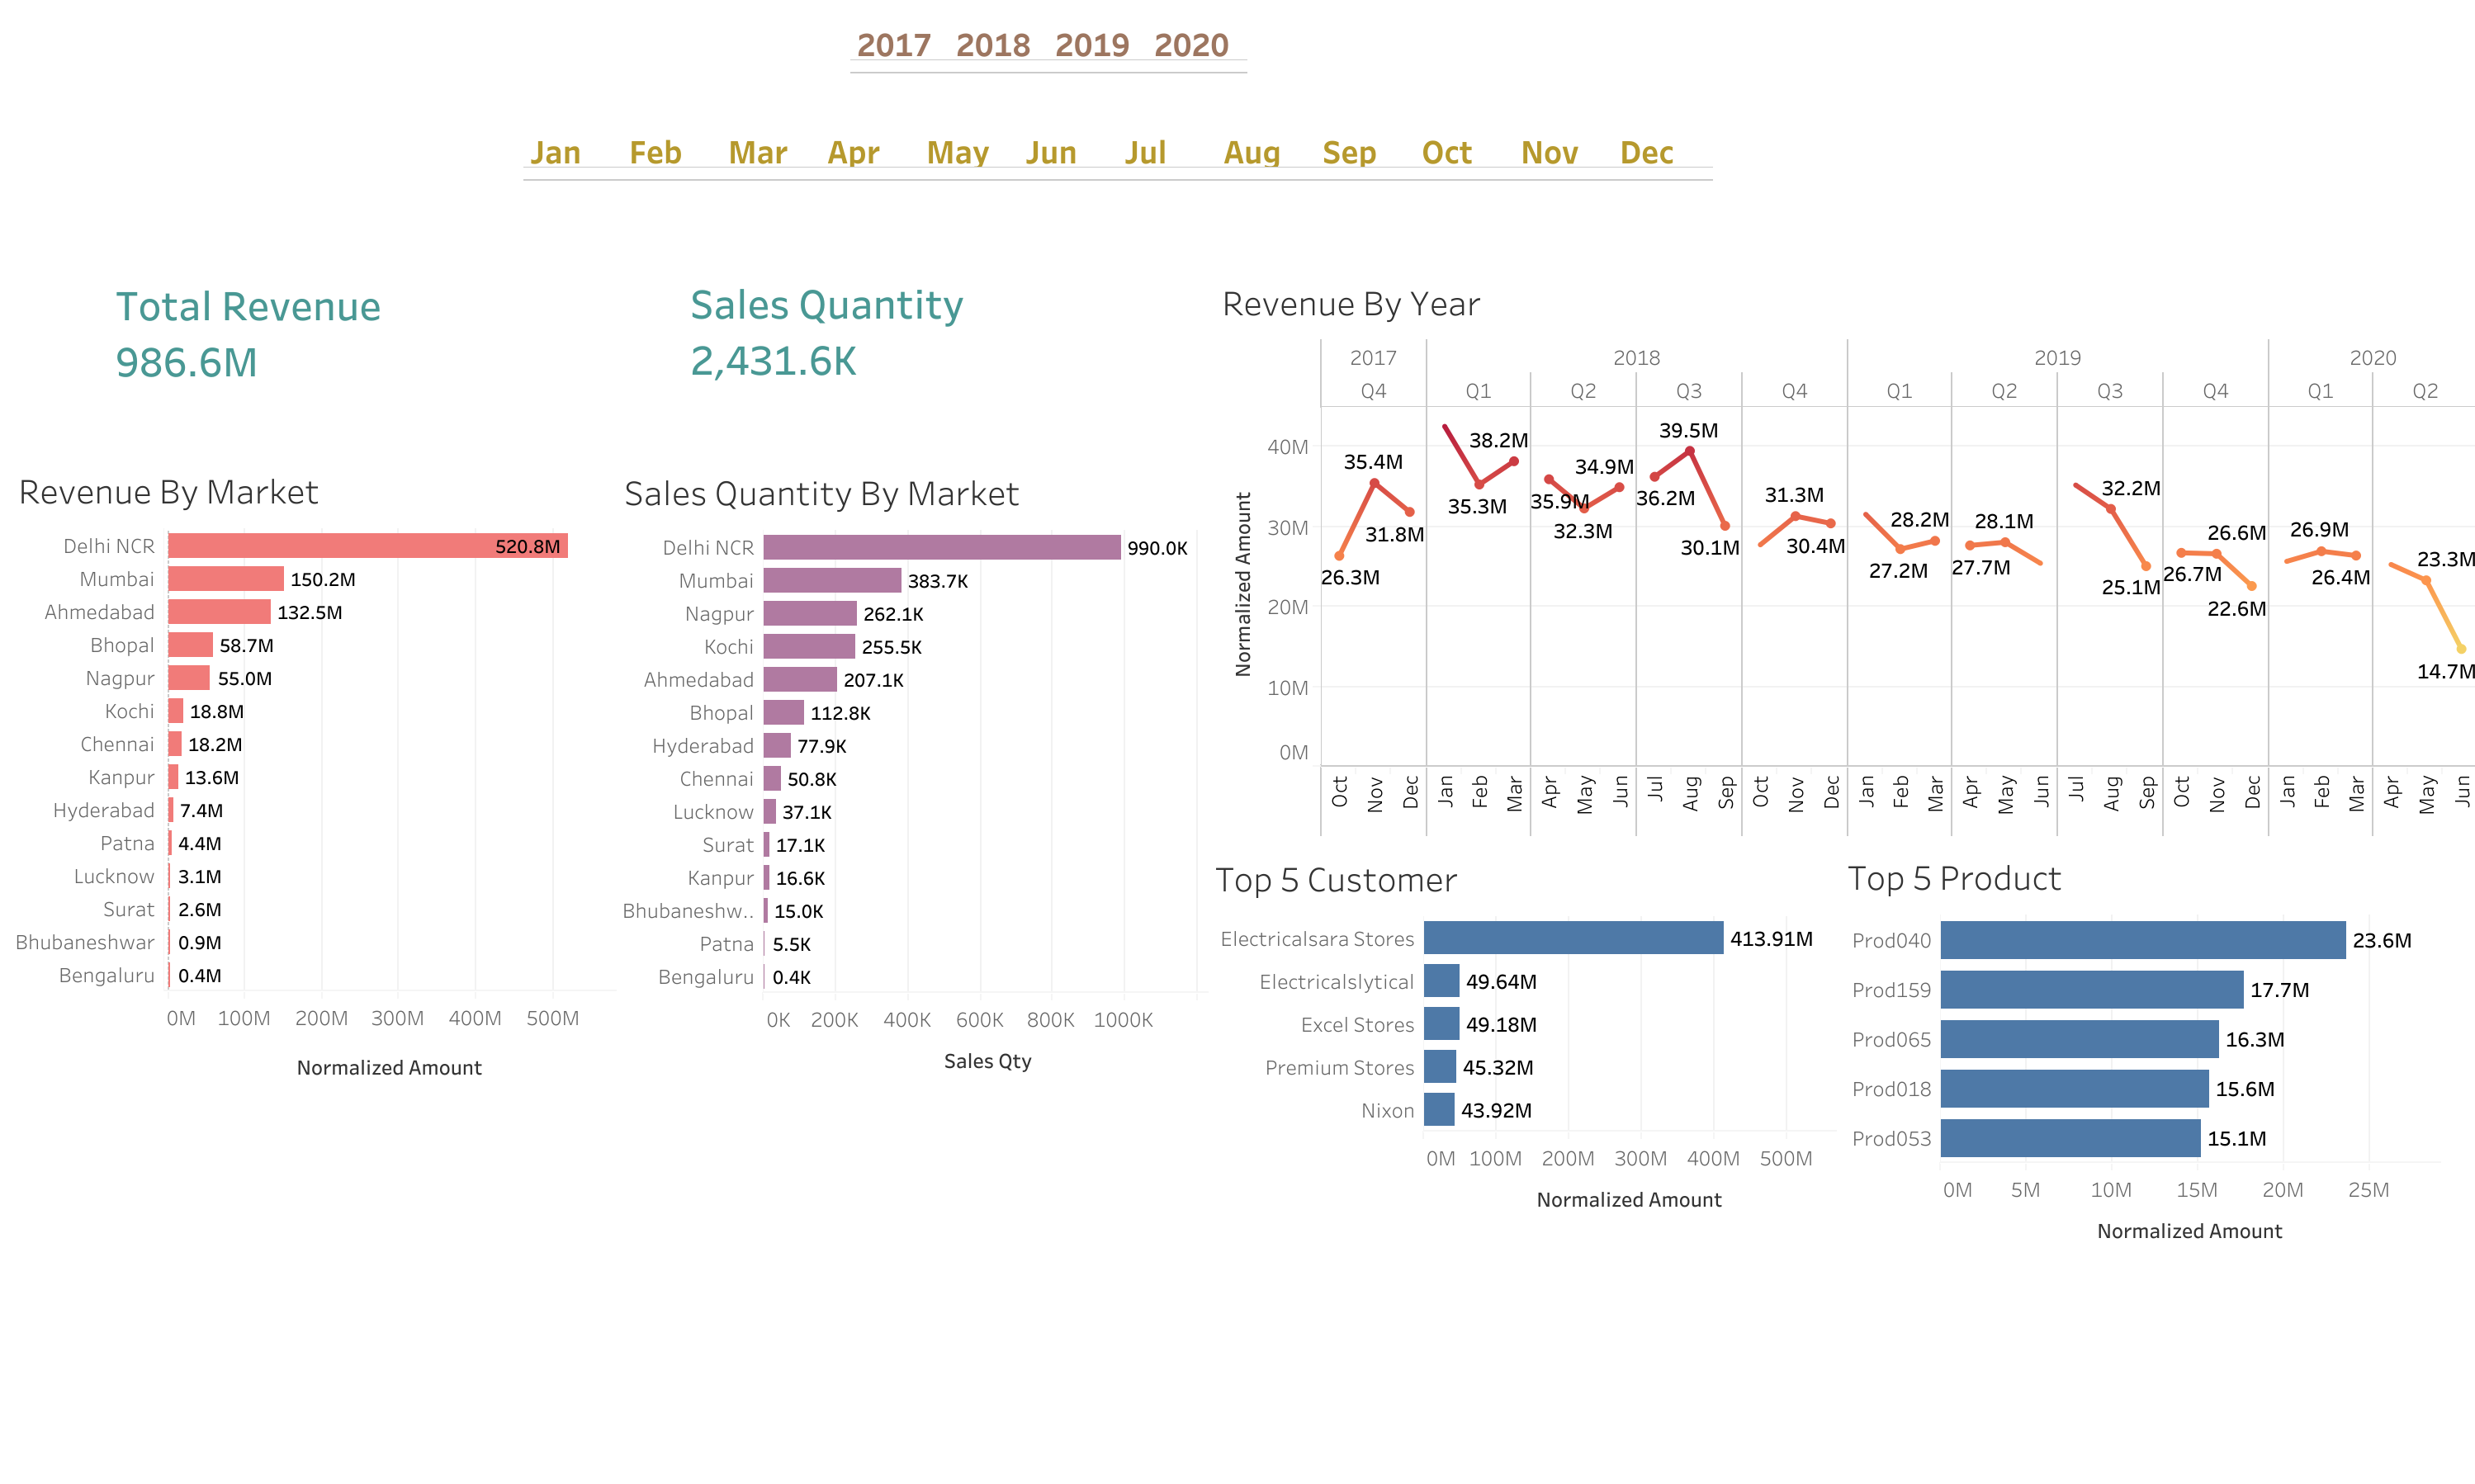

What the dashboard file says about the page in this screenshot:
{"tool":"tableau","page":{"name":"Dashboard 1","canvas":[1500,900],"ordinal":0},"visuals":[{"type":"worksheet","title":"Year","mark":"Automatic","cols":["cy_date"],"box":[515,16,318,38]},{"type":"worksheet","title":"Month","mark":"Automatic","cols":["cy_date"],"box":[317,65,905,47]},{"type":"worksheet","title":"Revenue","mark":"Automatic","box":[66,152,225,99]},{"type":"worksheet","title":"Revenue By Year","mark":"Automatic","rows":["Calculation_3241536237851303936"],"cols":["cy_date","cy_date","cy_date"],"box":[736,163,766,344]},{"type":"worksheet","title":"Quantity","mark":"Automatic","box":[414,166,278,90]},{"type":"worksheet","title":"Revenue By Market","mark":"Automatic","rows":["markets_name"],"cols":["Calculation_3241536237851303936"],"box":[7,277,366,449]},{"type":"worksheet","title":"Sales Quantity By Market","mark":"Automatic","rows":["markets_name"],"cols":["sales_qty"],"box":[374,278,361,449]},{"type":"worksheet","title":"Top 5 Product","mark":"Automatic","rows":["product_code (products)"],"cols":["Calculation_3241536237851303936"],"box":[1115,511,363,328]},{"type":"worksheet","title":"Top 5 Customer","mark":"Automatic","rows":["custmer_name"],"cols":["Calculation_3241536237851303936"],"box":[732,512,380,295]}]}

Visuals, with their boxes in screenshot pixels (x1, y1, x2, y2), scaled from the page's 1500x900 canvas onto the 2475x1484 screenshot:
"Year" worksheet: Rect(849, 26, 1375, 89)
"Month" worksheet: Rect(523, 107, 2016, 185)
"Revenue" worksheet: Rect(109, 251, 480, 414)
"Revenue By Year" worksheet: Rect(1214, 269, 2474, 836)
"Quantity" worksheet: Rect(683, 274, 1142, 422)
"Revenue By Market" worksheet: Rect(12, 456, 616, 1197)
"Sales Quantity By Market" worksheet: Rect(618, 458, 1213, 1198)
"Top 5 Product" worksheet: Rect(1840, 843, 2439, 1383)
"Top 5 Customer" worksheet: Rect(1208, 844, 1835, 1330)
